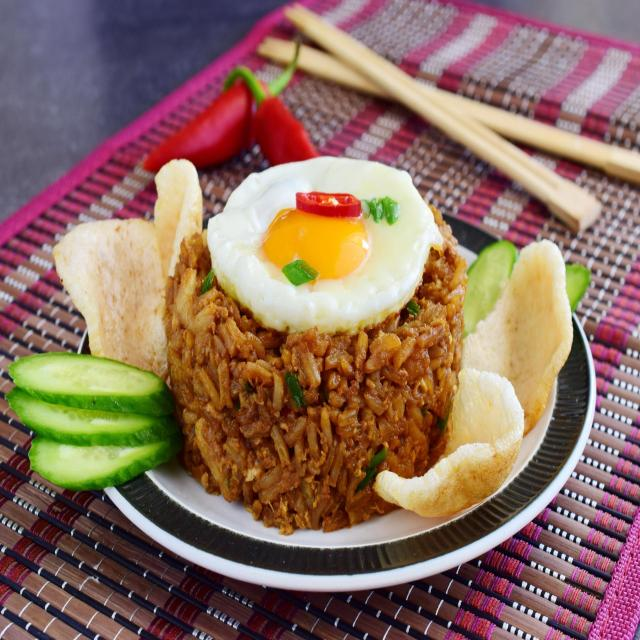Nasi Goreng: (152, 190, 491, 524)
